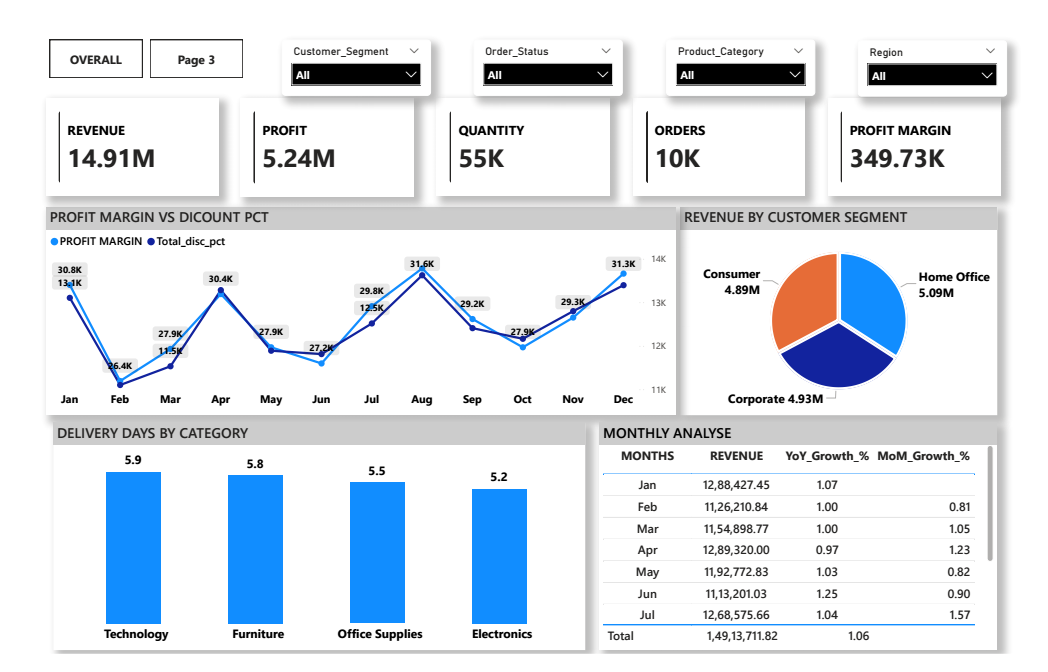

The dashboard page shown, as its layout file describes it:
{"tool":"powerbi","page":{"name":"Page 2","canvas":[1350,850],"ordinal":1},"visuals":[{"type":"pieChart","title":"REVENUE BY CUSTOMER SEGMENT","fields":{"Y":["All_Measures.Total_revenue"],"Category":["Sales_Data.Customer_Segment"]},"box":[884.5,252.6,423,278.6],"z":0},{"type":"lineChart","title":"PROFIT MARGIN VS DICOUNT PCT","fields":{"Category":["CalenderSales.Month_name"],"Y":["All_Measures.Total_Profit_margin"],"Y2":["All_Measures.Total_disc_pct"]},"box":[37.1,252.6,840.2,278.6],"z":1000},{"type":"columnChart","title":"DELIVERY DAYS BY CATEGORY","fields":{"Category":["Sales_Data.Product_Category"],"Y":["All_Measures.avg_delivery_delays"]},"box":[47.2,541.4,710.3,303.2],"z":2000},{"type":"cardVisual","fields":{"Data":["All_Measures.Total_revenue"]},"box":[37.2,106.5,229.5,131.4],"z":3000},{"type":"cardVisual","fields":{"Data":["All_Measures.Total_Profit"]},"box":[297.5,106.5,231,132.8],"z":4000},{"type":"cardVisual","fields":{"Data":["All_Measures.Total_quantity"]},"box":[559.1,106.5,231,131.4],"z":5000},{"type":"cardVisual","fields":{"Data":["All_Measures.Total_Orders"]},"box":[820.8,106.5,229.5,131.4],"z":6000},{"type":"cardVisual","fields":{"Data":["All_Measures.Total_Profit_margin"]},"box":[1081,106.5,229.5,131.4],"z":7000},{"type":"slicer","fields":{"Values":["Sales_Data.Order_Status"]},"box":[608.3,28.9,199,75],"z":8000},{"type":"slicer","fields":{"Values":["Sales_Data.Product_Category"]},"box":[864.7,28.9,199,75],"z":9000},{"type":"slicer","fields":{"Values":["Sales_Data.Region"]},"box":[1121.1,30.3,199,75],"z":10000},{"type":"slicer","fields":{"Values":["Sales_Data.Customer_Segment"]},"box":[351.7,28.9,199.2,75.1],"z":11000},{"type":"tableEx","title":"MONTHLY ANALYSE","fields":{"Values":["CalenderSales.Month_name","All_Measures.Total_revenue","All_Measures.YoY_Growth_%","All_Measures.MoM_Growth_%"]},"box":[776.2,541.4,531.3,303.2],"z":12000},{"type":"pageNavigator","box":[41.9,28.9,258.4,51],"z":13000}]}

Visuals, with their boxes in screenshot pixels (x1, y1, x2, y2), scaled from the page's 1350x850 canvas onto the 1048x672 screenshot:
"REVENUE BY CUSTOMER SEGMENT" pieChart: (687,200,1015,420)
"PROFIT MARGIN VS DICOUNT PCT" lineChart: (29,200,681,420)
"DELIVERY DAYS BY CATEGORY" columnChart: (37,428,588,668)
cardVisual - All_Measures.Total_revenue: (29,84,207,188)
cardVisual - All_Measures.Total_Profit: (231,84,410,189)
cardVisual - All_Measures.Total_quantity: (434,84,613,188)
cardVisual - All_Measures.Total_Orders: (637,84,815,188)
cardVisual - All_Measures.Total_Profit_margin: (839,84,1017,188)
slicer - Sales_Data.Order_Status: (472,23,627,82)
slicer - Sales_Data.Product_Category: (671,23,826,82)
slicer - Sales_Data.Region: (870,24,1025,83)
slicer - Sales_Data.Customer_Segment: (273,23,428,82)
"MONTHLY ANALYSE" tableEx: (603,428,1015,668)
pageNavigator: (33,23,233,63)
